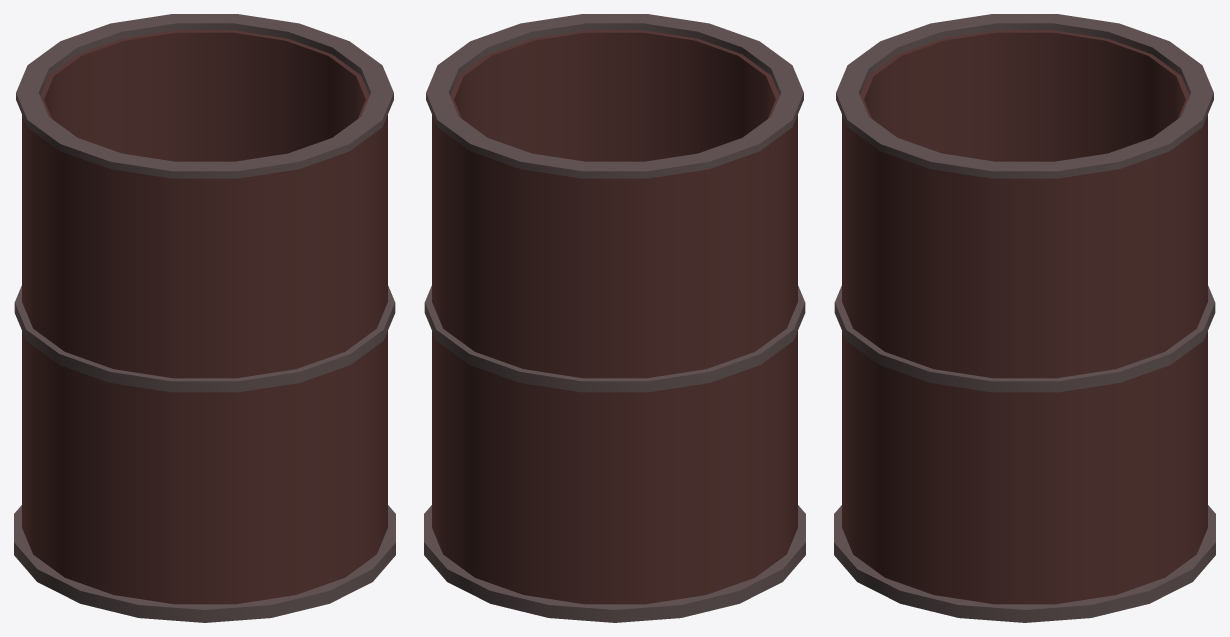
File: FactoryBarrelClean.fbx
3 views of the same model, side by side, from view 1: azimuth 30°, elevation 25°; view 2: azimuth 150°, elevation 25°; view 3: azimuth 270°, elevation 25° (orthographic).
Visible parts, largest first — view 1: Tube001, Tube004, Cylinder001, Tube003; view 2: Tube001, Tube004, Cylinder001, Tube003; view 3: Tube001, Tube004, Cylinder001, Tube003.
Part boxes in pixels (x1,y1,x2,y2): Tube001: (22, 30, 387, 604); Tube004: (16, 14, 393, 178); Cylinder001: (14, 505, 395, 622); Tube003: (14, 285, 395, 392); Tube001: (432, 30, 797, 604); Tube004: (426, 14, 803, 178); Cylinder001: (424, 505, 805, 622); Tube003: (424, 285, 805, 392); Tube001: (842, 30, 1207, 604); Tube004: (836, 14, 1213, 178); Cylinder001: (834, 505, 1215, 622); Tube003: (834, 285, 1215, 392).
Bounding box in the file's own units: 20.86 × 26.63 × 20.55.
